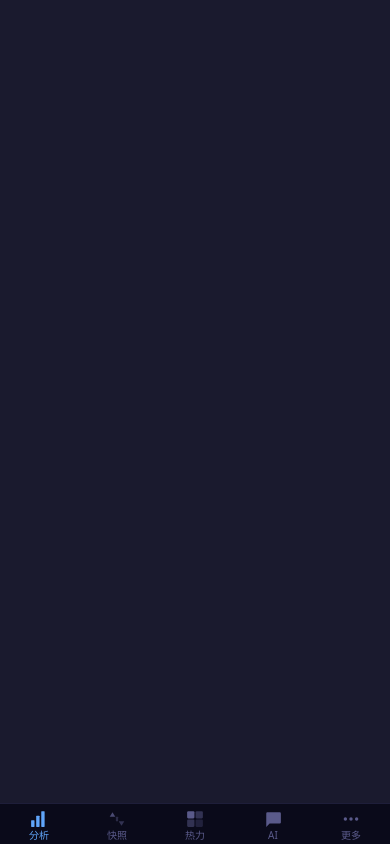
Test: MobileTabBar (5 tabs) › clicking More tab opens panel
Click the button with test id "mobile-tab-more": (351, 824) x1=312 y1=804 x2=389 y2=843
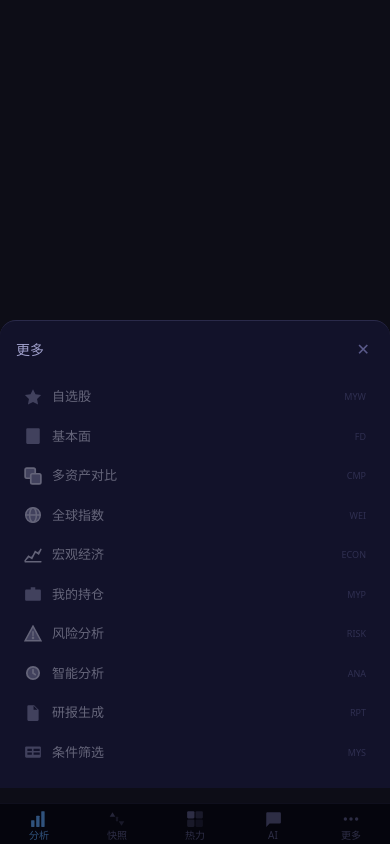
Result: the element with test id "mobile-more-panel" is shown at x1=0 y1=320 x2=389 y2=788
